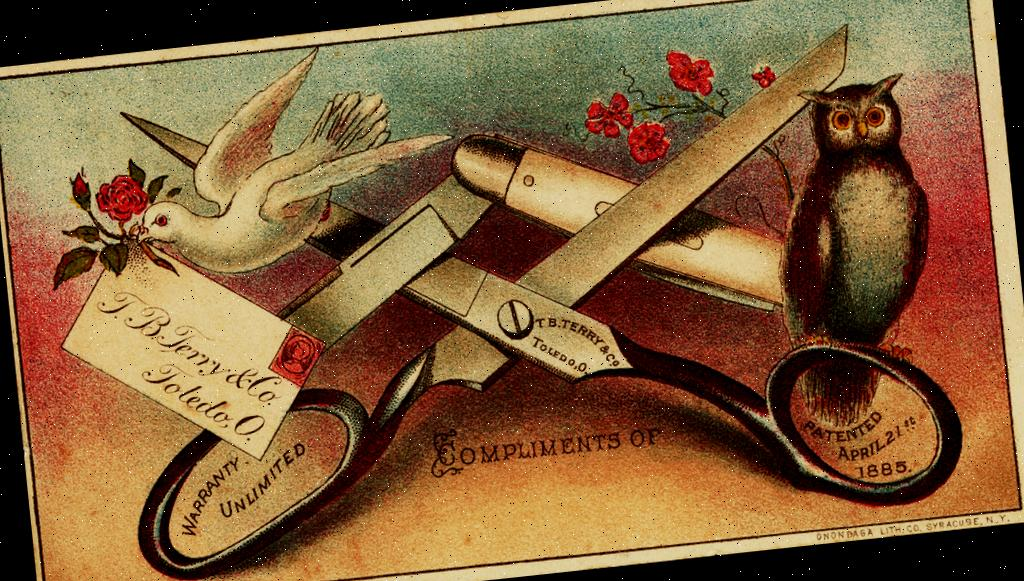Owl: (759, 70, 952, 430)
